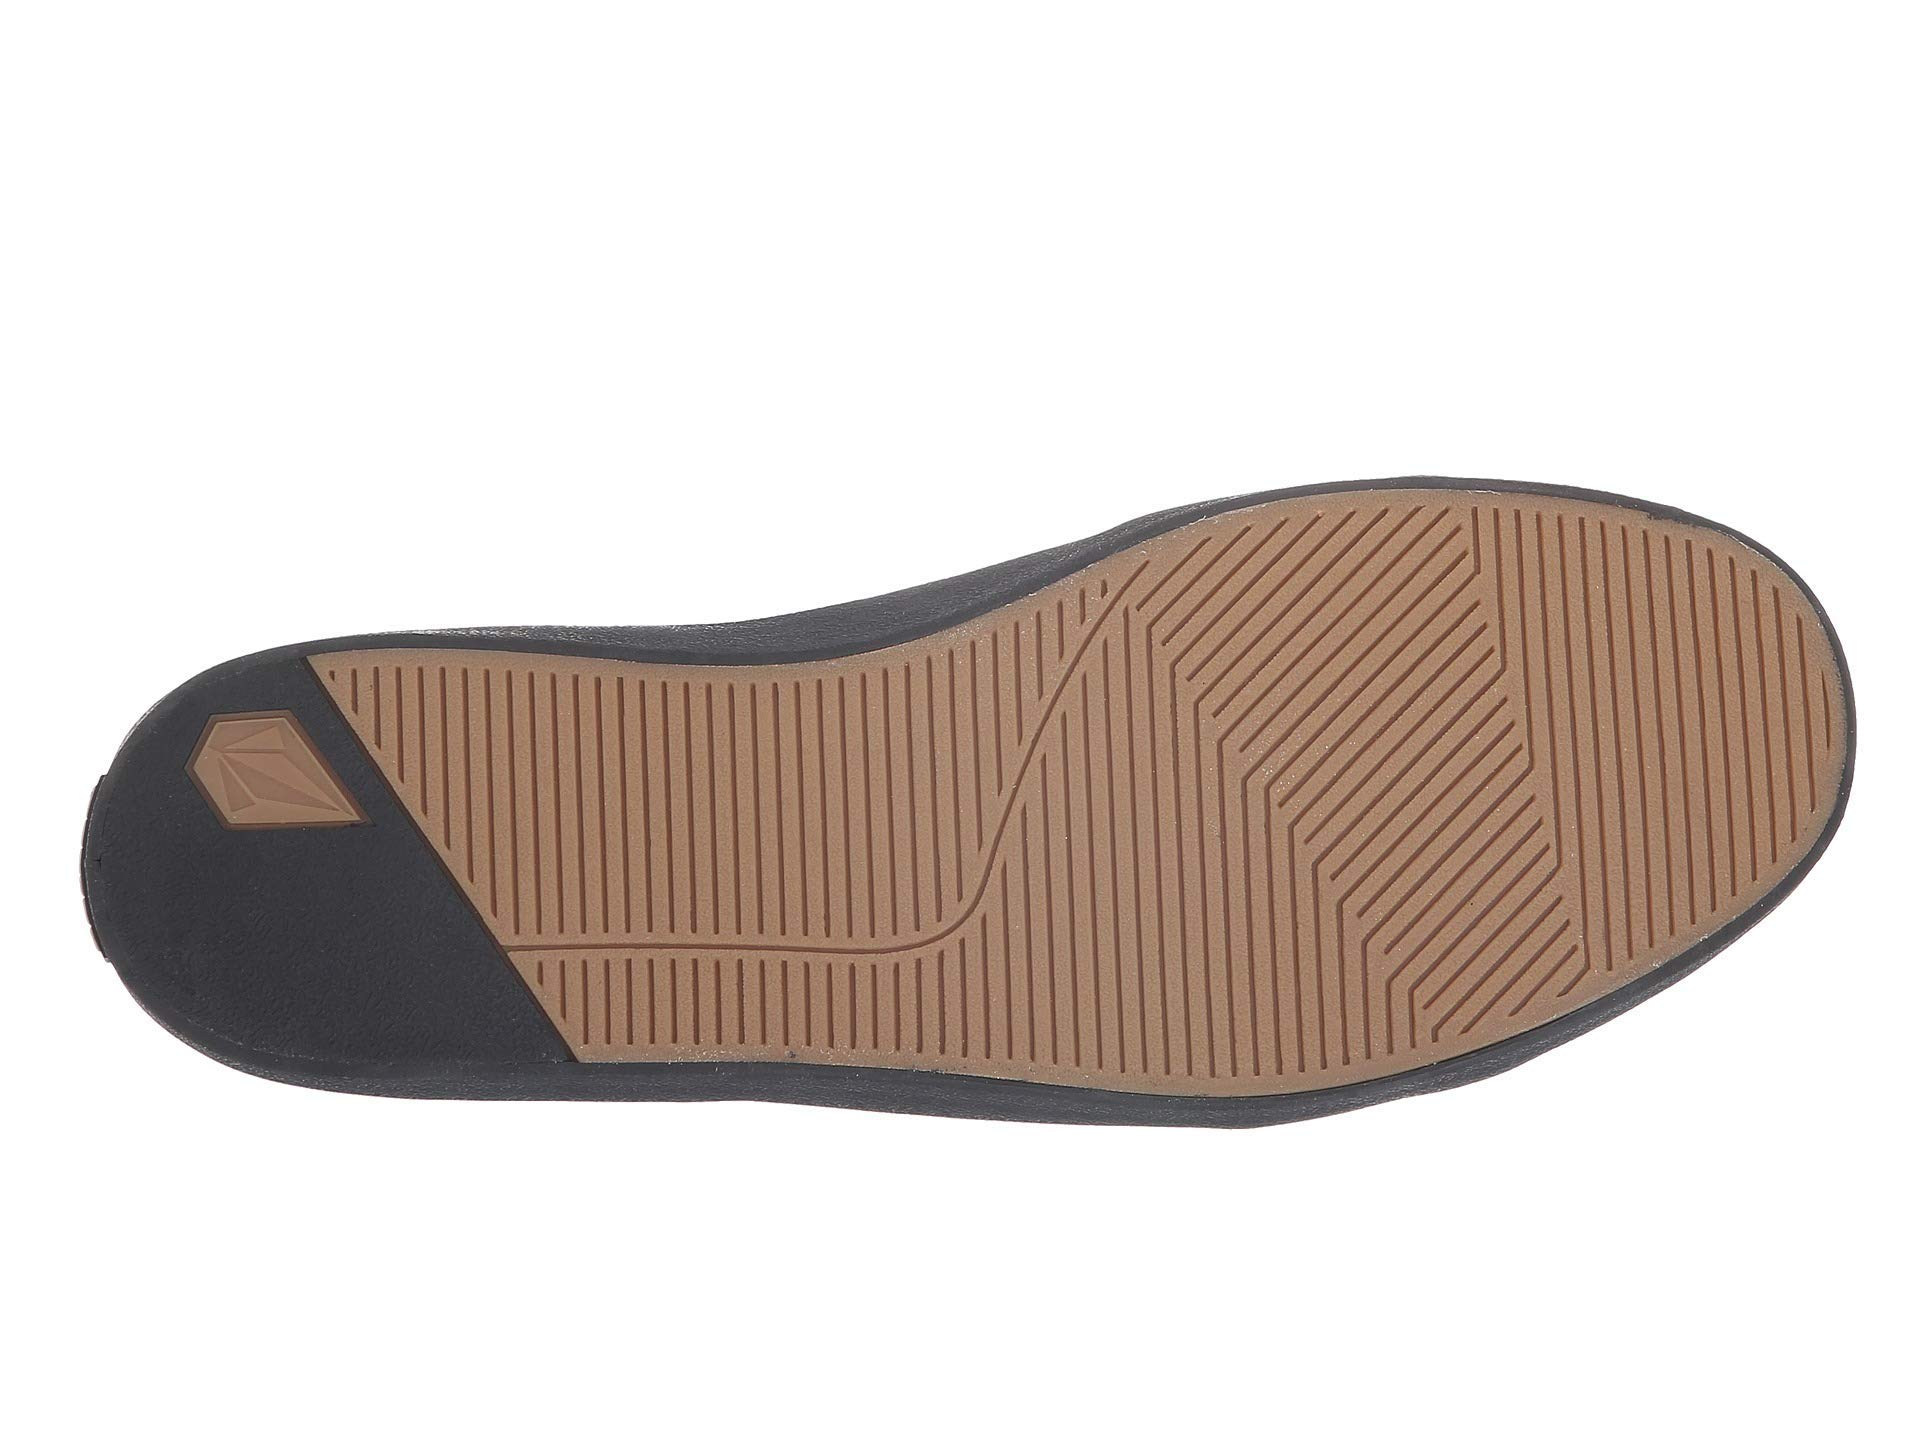chevron: (1154, 681, 1439, 933)
line: (1154, 681, 1439, 933), (1513, 613, 1784, 805), (529, 705, 776, 898), (937, 669, 1090, 829), (881, 867, 1036, 1000)
polygon: (156, 706, 389, 864)
quad: (156, 706, 389, 864)
triangle: (156, 706, 389, 864)
